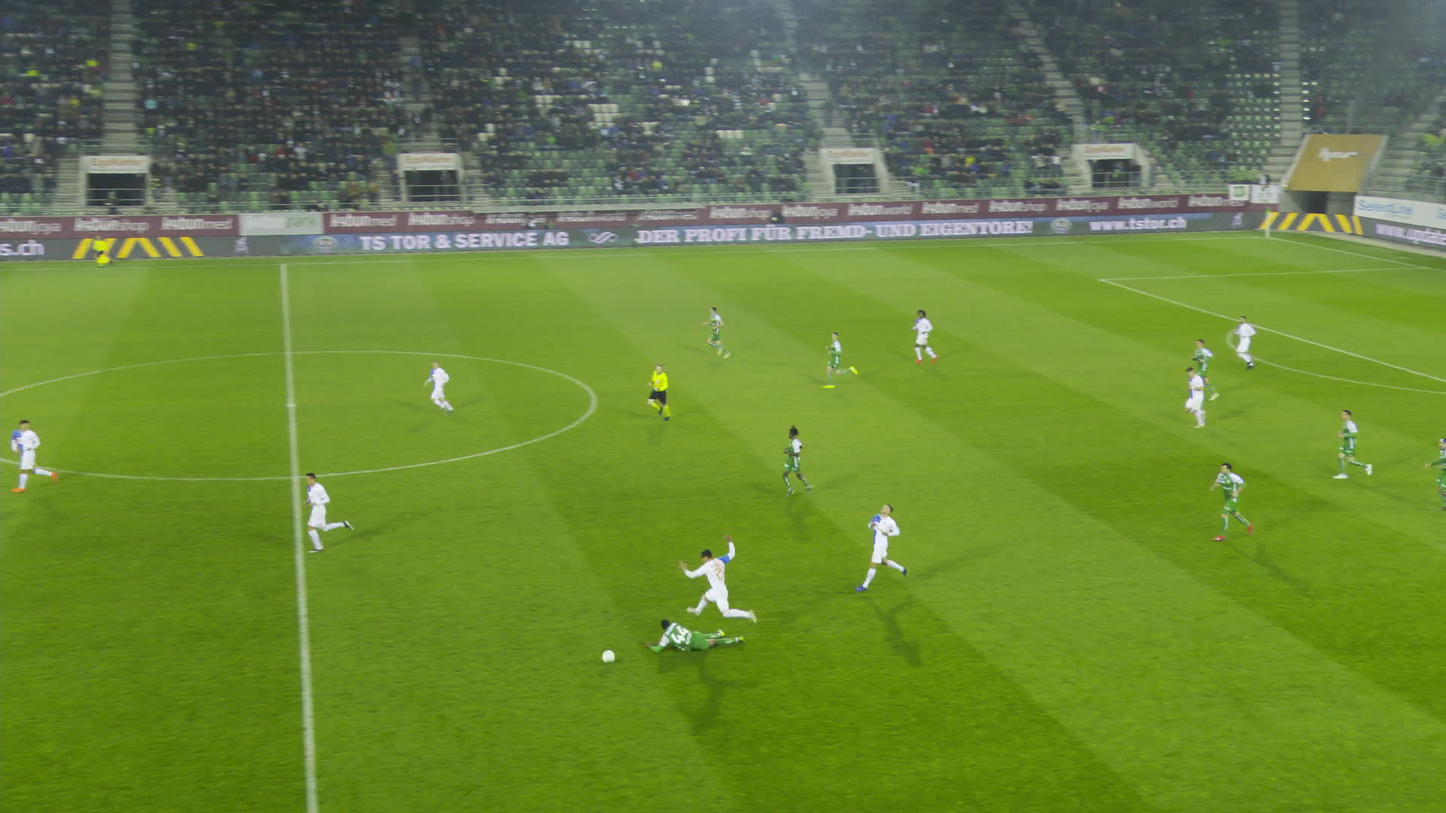ball: (601, 650, 615, 662)
player: (688, 537, 752, 644), (297, 467, 354, 553), (853, 504, 907, 592), (645, 617, 745, 653), (5, 417, 49, 494), (1209, 462, 1252, 540), (776, 428, 819, 499), (1332, 410, 1371, 479), (1179, 364, 1214, 430), (821, 331, 857, 388), (423, 361, 460, 416), (1189, 338, 1220, 400), (909, 306, 939, 364), (700, 306, 731, 358), (1232, 315, 1255, 370), (1435, 435, 1445, 510)
referee: (646, 364, 672, 421), (84, 232, 108, 266)
